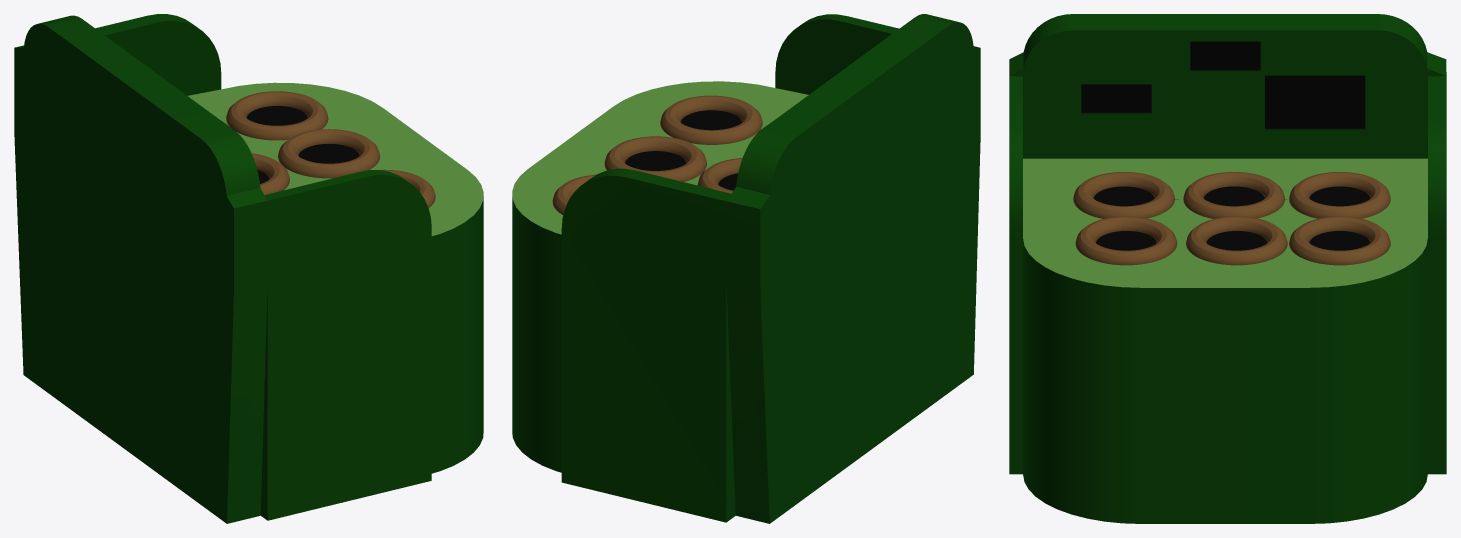
3 views of the same model, side by side, from view 1: azimuth 30°, elevation 25°; view 2: azimuth 150°, elevation 25°; view 3: azimuth 270°, elevation 25° (orthographic).
Parts seen in each view (by area): view 1: Cube.001; view 2: Cube.001; view 3: Cube.001.
Boxes of the visible parts, left/top/right/bottom form: Cube.001: left=14, top=14, right=483, bottom=523; Cube.001: left=512, top=14, right=980, bottom=523; Cube.001: left=1009, top=14, right=1446, bottom=523.
Bounding box in the file's own units: 1.7 × 1.99 × 2.16.
